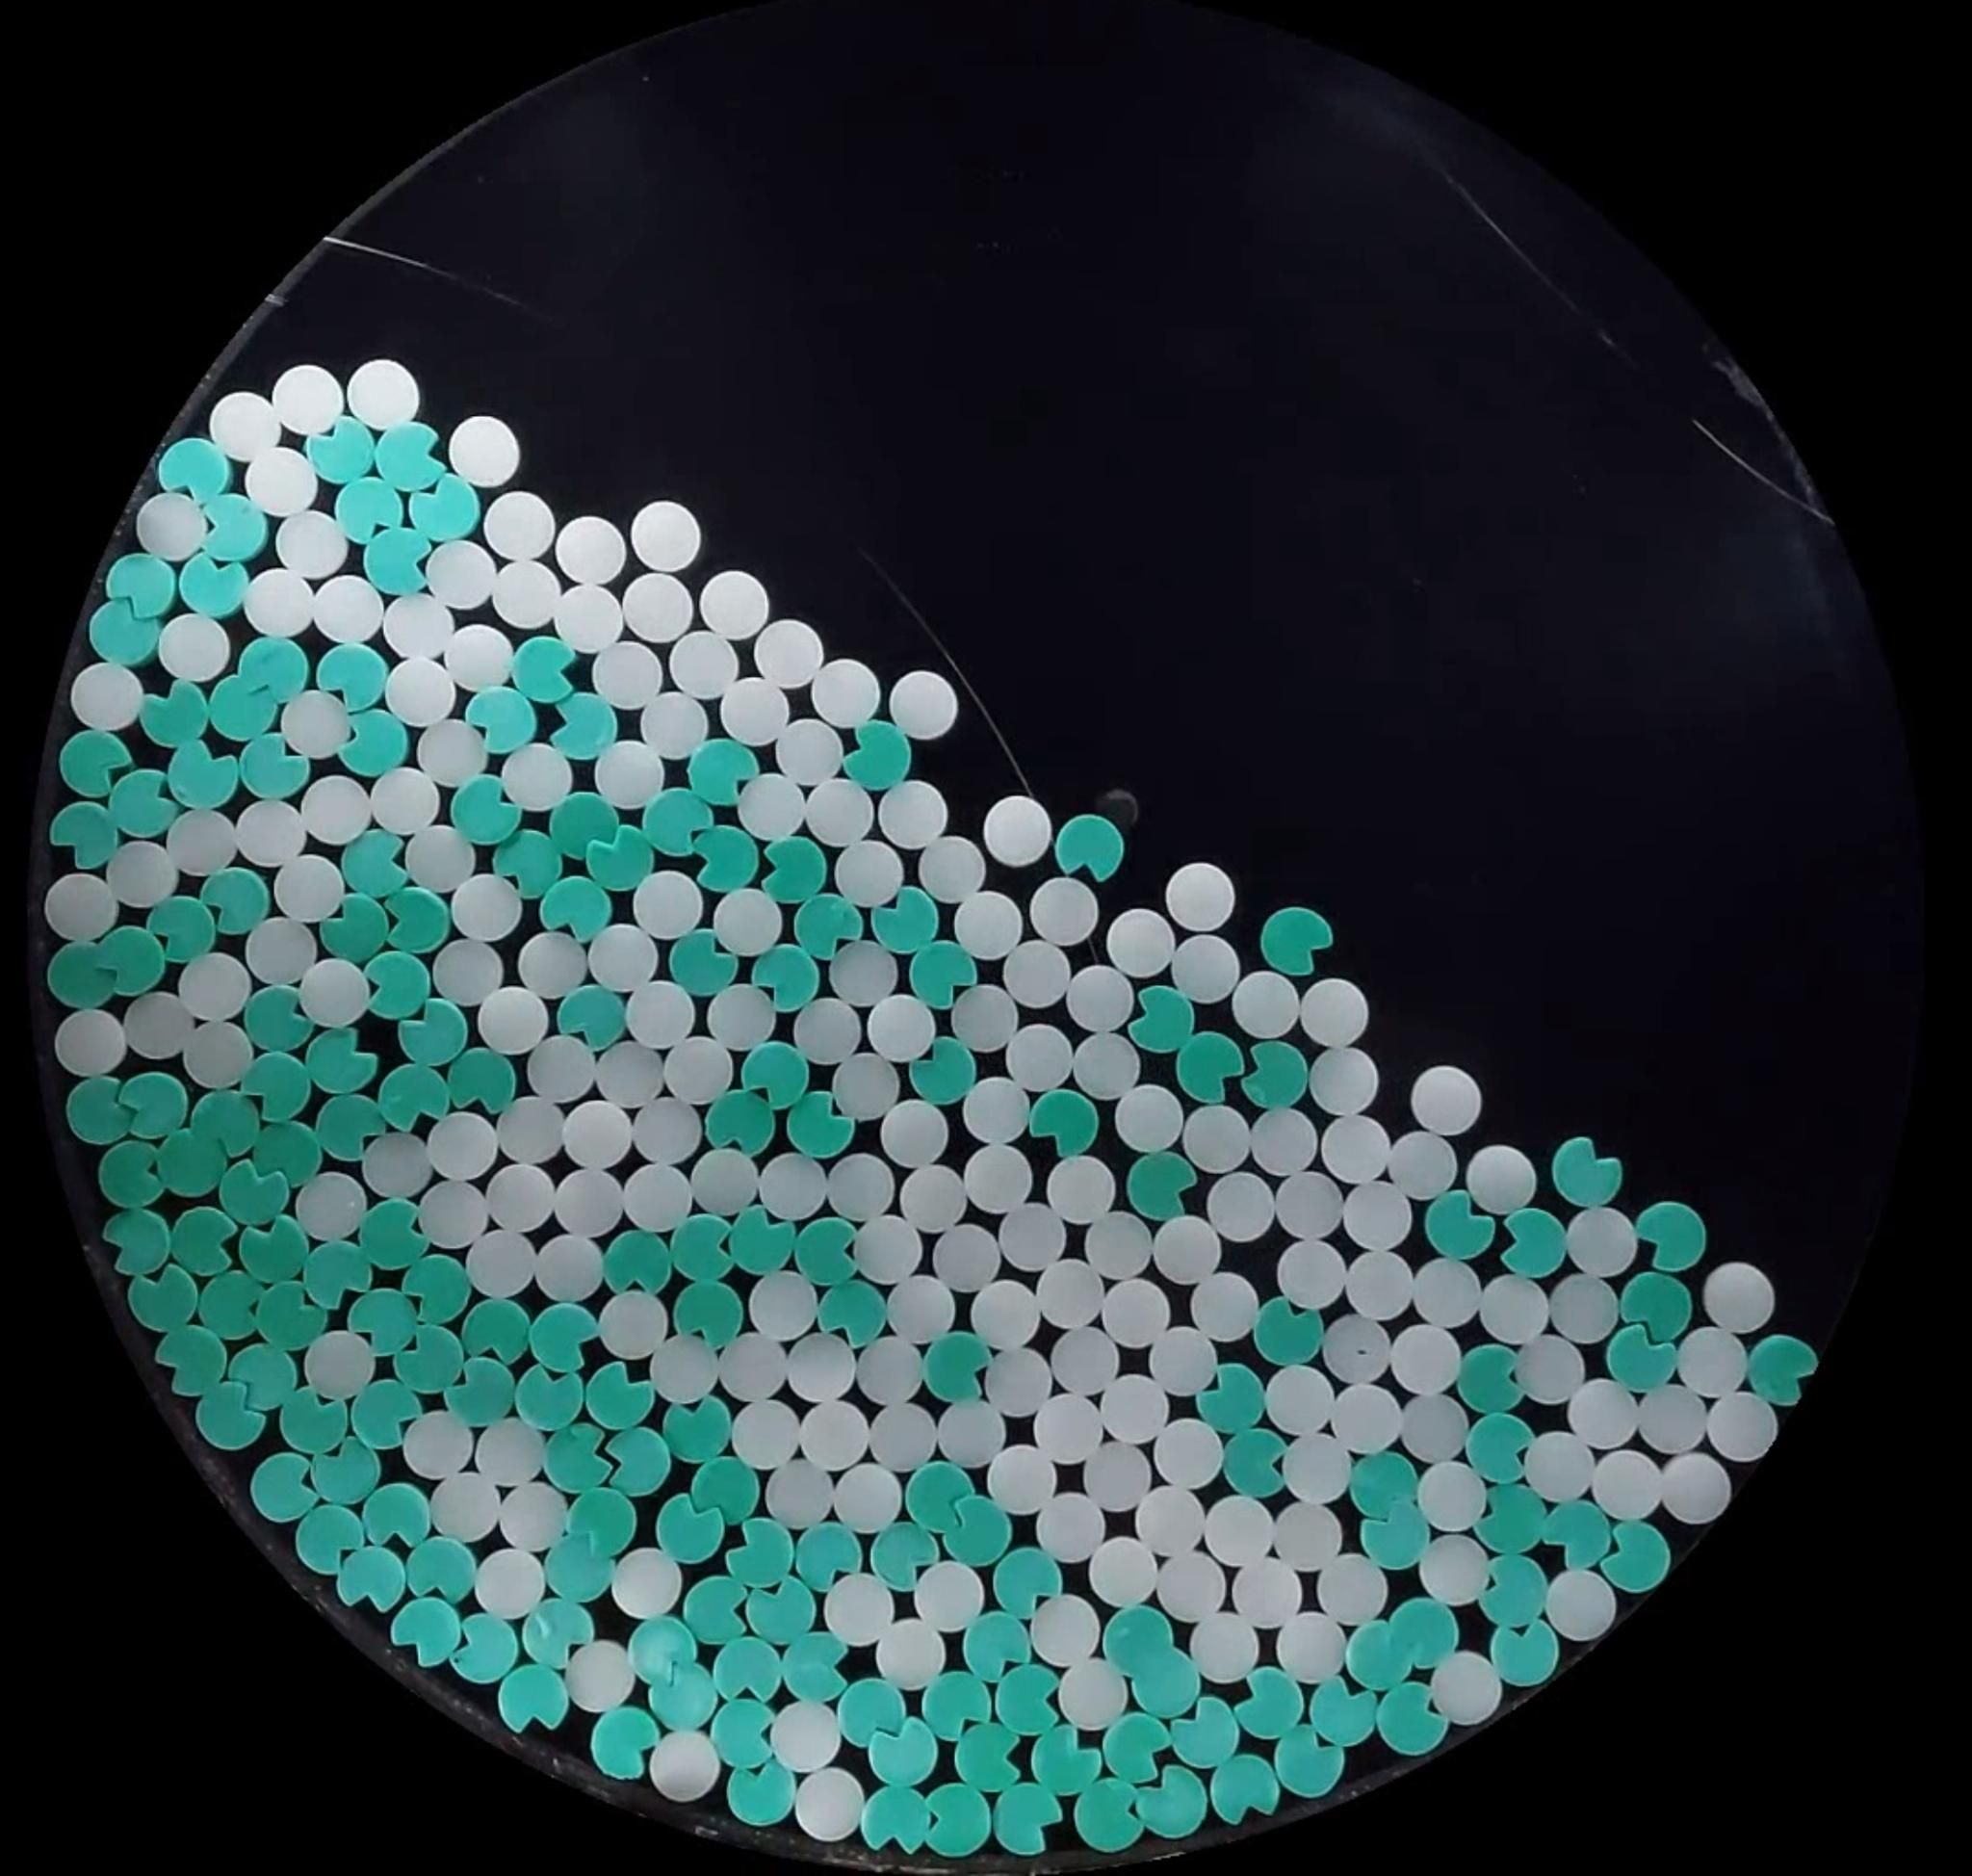disco-pmma: (609, 964, 706, 1052), (1410, 1249, 1493, 1346), (637, 1332, 736, 1409), (1345, 1245, 1430, 1335), (923, 883, 1021, 958), (639, 1016, 731, 1097), (491, 742, 581, 819), (581, 731, 667, 810), (1028, 1245, 1106, 1333), (39, 1006, 132, 1078), (1312, 1103, 1398, 1180), (252, 909, 324, 1001), (847, 1397, 938, 1469), (1340, 1173, 1421, 1254), (1153, 854, 1238, 932), (926, 1393, 1012, 1469), (694, 565, 775, 645), (655, 629, 745, 699), (285, 953, 368, 1029), (630, 680, 715, 754), (798, 1386, 872, 1471), (799, 648, 882, 722), (713, 668, 798, 740), (1296, 1046, 1382, 1117), (232, 796, 313, 870), (720, 1333, 801, 1407), (208, 389, 292, 460), (447, 1217, 532, 1288), (1097, 905, 1183, 974), (1018, 881, 1100, 951), (544, 581, 627, 652), (169, 810, 252, 881), (629, 867, 713, 935), (171, 956, 255, 1025), (743, 1267, 819, 1342), (1060, 956, 1137, 1030), (1146, 1323, 1220, 1400), (1310, 1545, 1382, 1624), (556, 1101, 637, 1171), (607, 1154, 688, 1224), (903, 824, 979, 898), (879, 1261, 953, 1337), (292, 772, 370, 844), (470, 1541, 542, 1619), (1384, 1120, 1461, 1193), (1097, 1272, 1167, 1351), (1278, 1233, 1349, 1312), (1630, 1381, 1710, 1451), (801, 770, 870, 851), (801, 1762, 870, 1843), (1322, 1314, 1403, 1383), (449, 875, 523, 949), (468, 978, 544, 1050), (401, 1175, 477, 1247), (1412, 1060, 1488, 1133), (1044, 1321, 1116, 1397), (826, 1573, 898, 1649), (889, 664, 960, 742), (1081, 1203, 1159, 1274), (433, 932, 507, 1004), (877, 1619, 949, 1693), (1155, 1552, 1229, 1624), (489, 557, 560, 632), (1187, 1101, 1262, 1171), (525, 1230, 595, 1305), (1155, 1418, 1225, 1494), (104, 840, 181, 909), (1072, 1023, 1152, 1090), (708, 886, 787, 953), (1593, 1451, 1674, 1517), (352, 358, 424, 430), (600, 1039, 671, 1113), (651, 1728, 722, 1802), (750, 613, 824, 683), (972, 1275, 1042, 1349), (359, 1131, 435, 1200), (1261, 1101, 1329, 1177), (396, 823, 472, 891), (364, 770, 440, 838), (379, 659, 454, 728), (958, 1140, 1034, 1208), (1666, 1453, 1734, 1529), (248, 447, 326, 514), (865, 777, 944, 842), (891, 1166, 970, 1231), (982, 796, 1055, 867), (865, 986, 937, 1057), (1152, 1212, 1222, 1284), (1277, 1173, 1349, 1244), (1704, 1261, 1775, 1333), (1269, 1497, 1342, 1568), (269, 361, 343, 430), (595, 639, 664, 713), (570, 1642, 639, 1716), (1528, 1434, 1602, 1503), (1206, 1496, 1280, 1564), (910, 1568, 986, 1635), (1475, 1275, 1551, 1342), (70, 664, 148, 729), (993, 1201, 1071, 1267), (433, 1113, 504, 1184), (312, 574, 384, 643), (558, 514, 627, 587), (732, 1397, 801, 1469), (1032, 1494, 1104, 1562), (771, 1702, 843, 1770), (766, 712, 840, 779), (1118, 1073, 1185, 1147), (1509, 1333, 1583, 1400), (1324, 1383, 1398, 1450), (1419, 1467, 1493, 1534), (826, 1159, 901, 1224), (1028, 1395, 1104, 1460), (1067, 1654, 1132, 1730), (514, 935, 593, 997), (275, 507, 345, 576), (426, 541, 495, 611), (600, 1289, 669, 1360), (833, 1052, 901, 1122), (438, 622, 509, 691), (497, 1096, 567, 1164), (493, 1478, 562, 1548), (828, 937, 898, 1006), (1564, 1205, 1632, 1275), (1282, 1432, 1350, 1503), (1437, 1654, 1505, 1725), (379, 594, 451, 661), (445, 416, 518, 483), (431, 1467, 498, 1540), (856, 1335, 923, 1407), (1190, 1608, 1262, 1675), (414, 720, 488, 786), (796, 997, 870, 1062), (1280, 1605, 1345, 1679), (928, 1224, 1004, 1288), (997, 944, 1074, 1006), (1169, 935, 1247, 997), (1042, 1157, 1122, 1217), (185, 1016, 254, 1085), (850, 1208, 919, 1277), (1463, 1143, 1532, 1212), (629, 502, 699, 569), (158, 613, 229, 680), (599, 923, 666, 993), (611, 1548, 681, 1615), (1424, 1536, 1491, 1606), (1551, 1569, 1618, 1640), (623, 572, 688, 645), (121, 988, 187, 1060), (1032, 1596, 1104, 1661), (1546, 1275, 1618, 1341), (1227, 1554, 1296, 1621), (136, 491, 206, 557), (407, 1413, 479, 1476), (1093, 1538, 1157, 1610), (268, 851, 343, 911), (474, 1423, 549, 1483), (637, 1099, 704, 1166), (1192, 1270, 1257, 1339), (982, 1453, 1051, 1518), (486, 493, 549, 564), (762, 1464, 833, 1527), (831, 1469, 901, 1533), (39, 874, 111, 935), (875, 1101, 947, 1163), (1211, 1171, 1271, 1245), (1298, 988, 1373, 1046), (248, 569, 315, 634), (1238, 969, 1301, 1038), (287, 692, 350, 761), (1139, 1480, 1203, 1548), (1005, 1025, 1076, 1087), (1264, 1372, 1338, 1430), (687, 1154, 762, 1210), (791, 1337, 857, 1400), (829, 833, 896, 897), (990, 1349, 1051, 1418), (1402, 1393, 1470, 1455), (1400, 1323, 1460, 1393), (963, 1076, 1026, 1141), (734, 777, 801, 838), (699, 983, 766, 1045), (532, 1041, 602, 1099), (299, 1171, 357, 1242), (551, 1168, 618, 1228), (1083, 1441, 1143, 1508), (1718, 1392, 1778, 1459), (1106, 1372, 1166, 1437), (489, 1178, 551, 1240), (1576, 1381, 1639, 1441), (1681, 1328, 1741, 1388), (953, 995, 1014, 1052), (313, 1339, 368, 1400), (768, 1157, 829, 1212)
